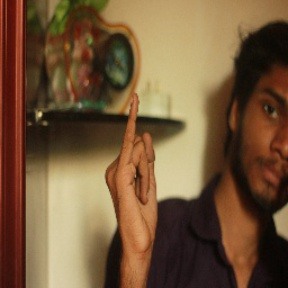I: (102, 92, 163, 245)
